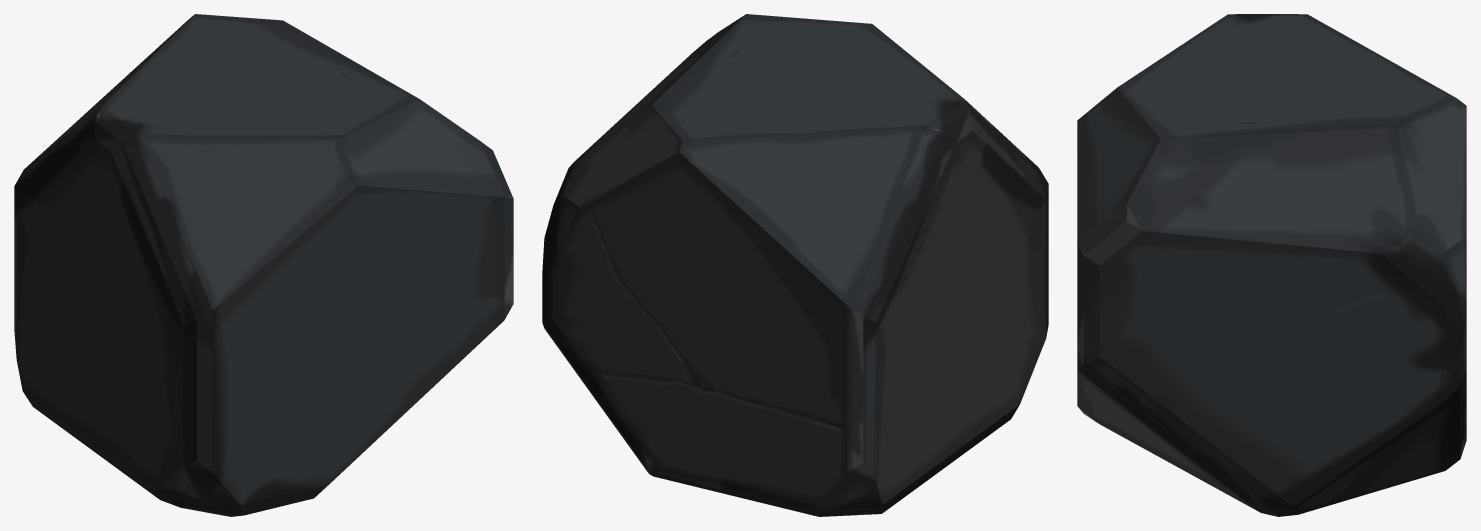
The model's file is StonePiece.fbx.
3 renders of one model, left to right at view 1: azimuth 30°, elevation 25°; view 2: azimuth 150°, elevation 25°; view 3: azimuth 270°, elevation 25°, orthographic. The views are drawn at different scales.
Visible parts, largest first — view 1: Cube; view 2: Cube; view 3: Cube.
Boxes of the visible parts, left/top/right/bottom form: Cube: left=14, top=14, right=513, bottom=516; Cube: left=542, top=14, right=1048, bottom=516; Cube: left=1077, top=14, right=1466, bottom=516.
Bounding box in the file's own units: 200 × 200 × 200.
Materials: 1 (1 with a texture image).
